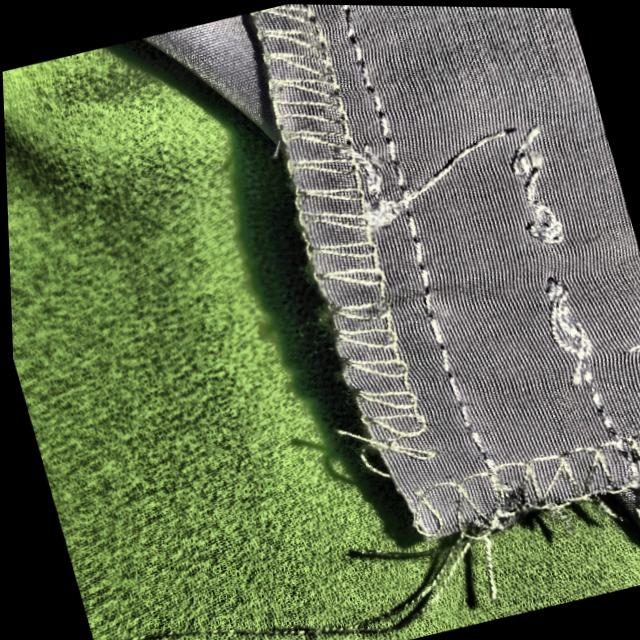Stitch: (330, 382, 468, 544), (495, 210, 618, 359)
